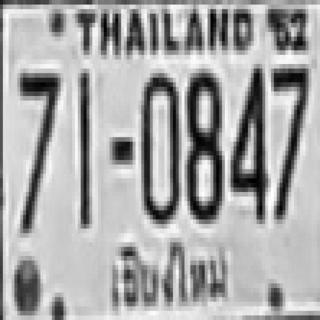N00: (140, 69, 177, 219)
N01: (76, 68, 91, 224)
N04: (228, 64, 265, 220)
N07: (17, 68, 58, 228), (271, 64, 306, 220), (271, 64, 306, 196), (17, 71, 58, 181), (271, 64, 306, 183), (271, 64, 306, 165)
N08: (184, 69, 219, 219)
P11: (105, 237, 234, 315)
